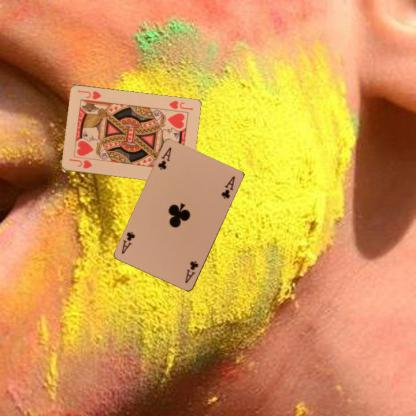Ac: (155, 144, 173, 172), (182, 258, 200, 285)
Jh: (164, 98, 193, 114), (66, 156, 93, 170)
